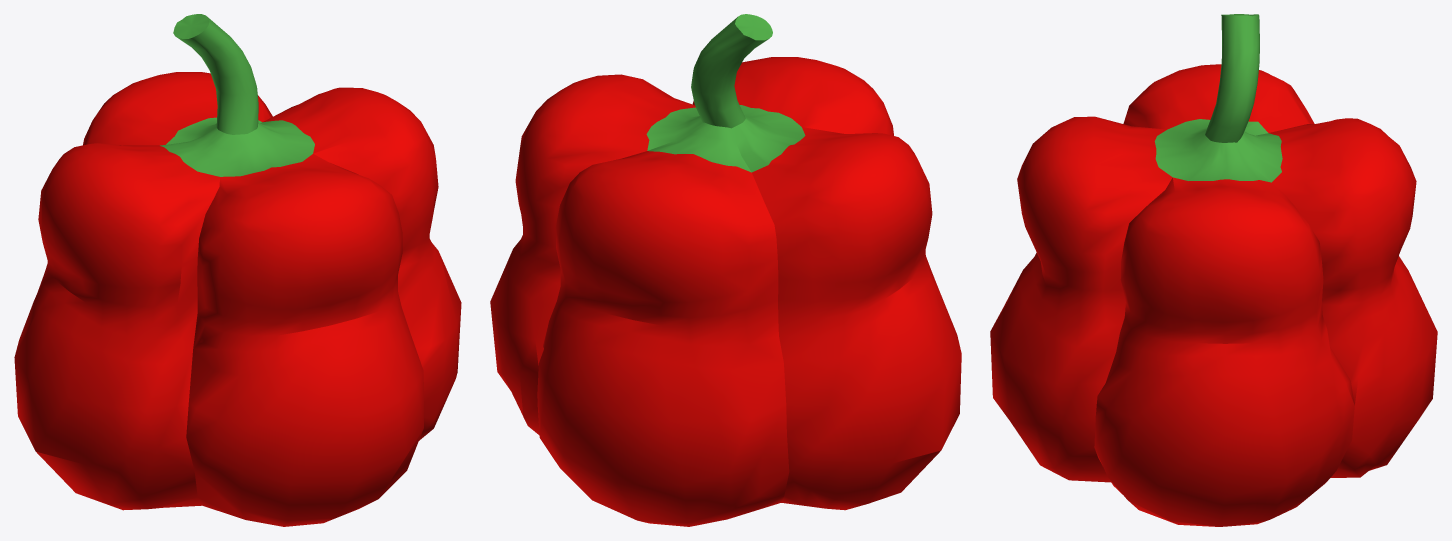
Rendered from mesh_capsicum2.fbx.
3 views of the same model, side by side, from view 1: azimuth 30°, elevation 25°; view 2: azimuth 150°, elevation 25°; view 3: azimuth 270°, elevation 25° (orthographic). The views are drawn at different scales.
Parts seen in each view (by area): view 1: Capsicum1.002; view 2: Capsicum1.002; view 3: Capsicum1.002.
Boxes of the visible parts, x1=… form: Capsicum1.002: x1=14, y1=14, x2=461, y2=526; Capsicum1.002: x1=490, y1=14, x2=961, y2=526; Capsicum1.002: x1=990, y1=14, x2=1437, y2=526.
Bounding box in the file's own units: 376 × 386 × 355.
